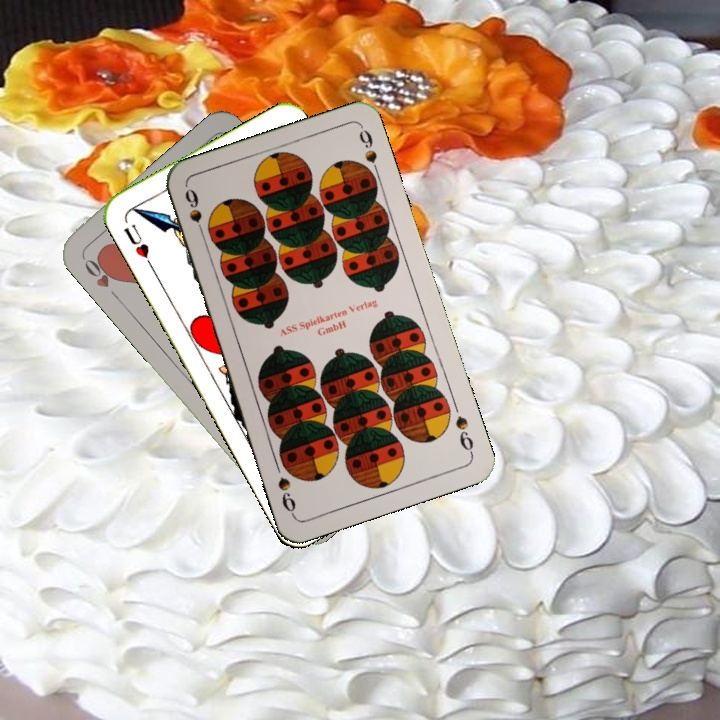HO: (78, 251, 123, 303)
HU: (119, 219, 156, 270)
S9: (180, 184, 208, 242), (451, 412, 476, 458)
